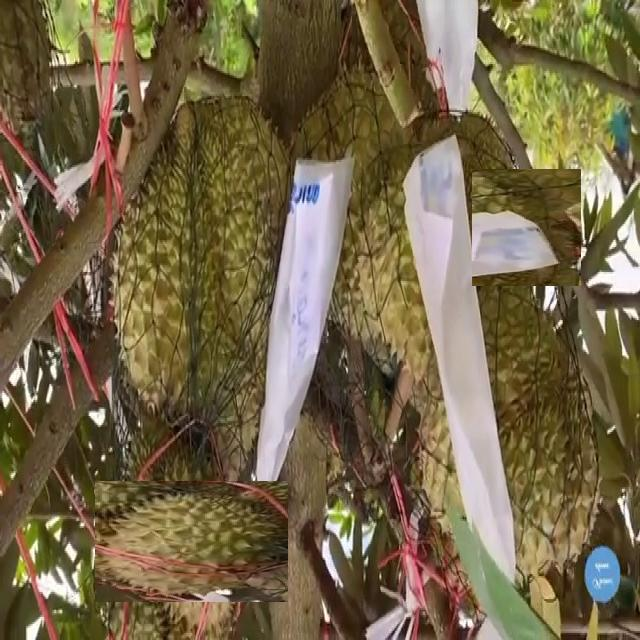durian: (104, 88, 305, 430), (281, 53, 472, 353), (411, 286, 597, 586), (332, 141, 553, 362), (113, 463, 271, 620)
